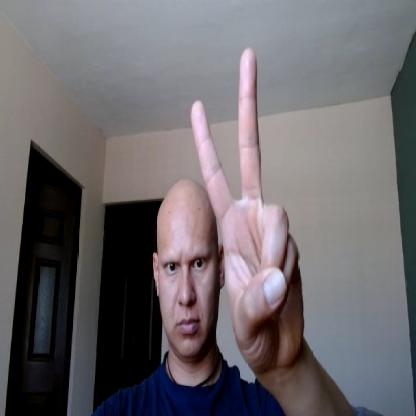V: (190, 47, 304, 369)
